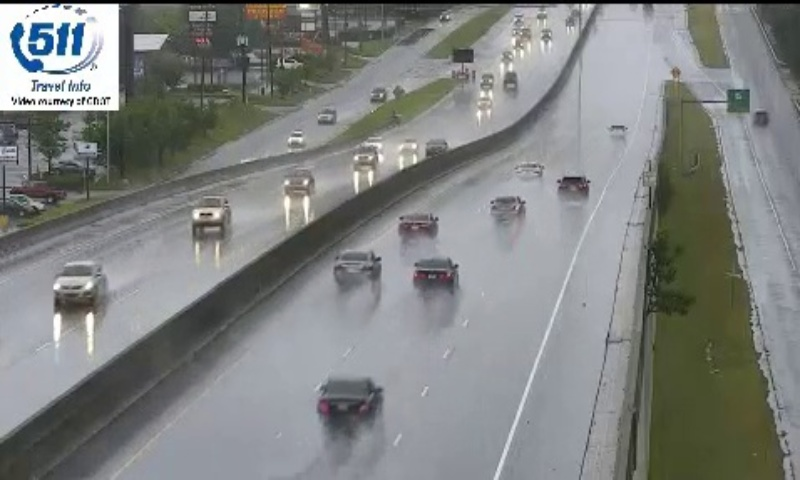car: (317, 375, 383, 424), (334, 249, 381, 283), (413, 257, 457, 289), (398, 211, 438, 240), (490, 196, 525, 224), (557, 175, 589, 201)
